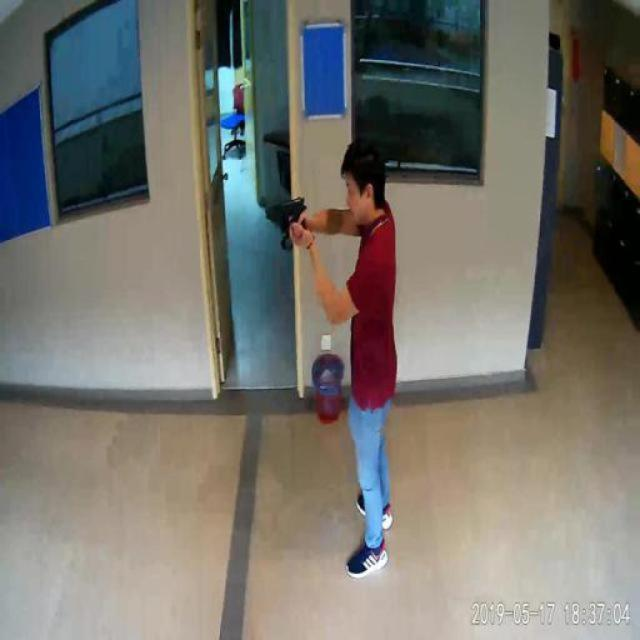pistol: (264, 194, 304, 240)
